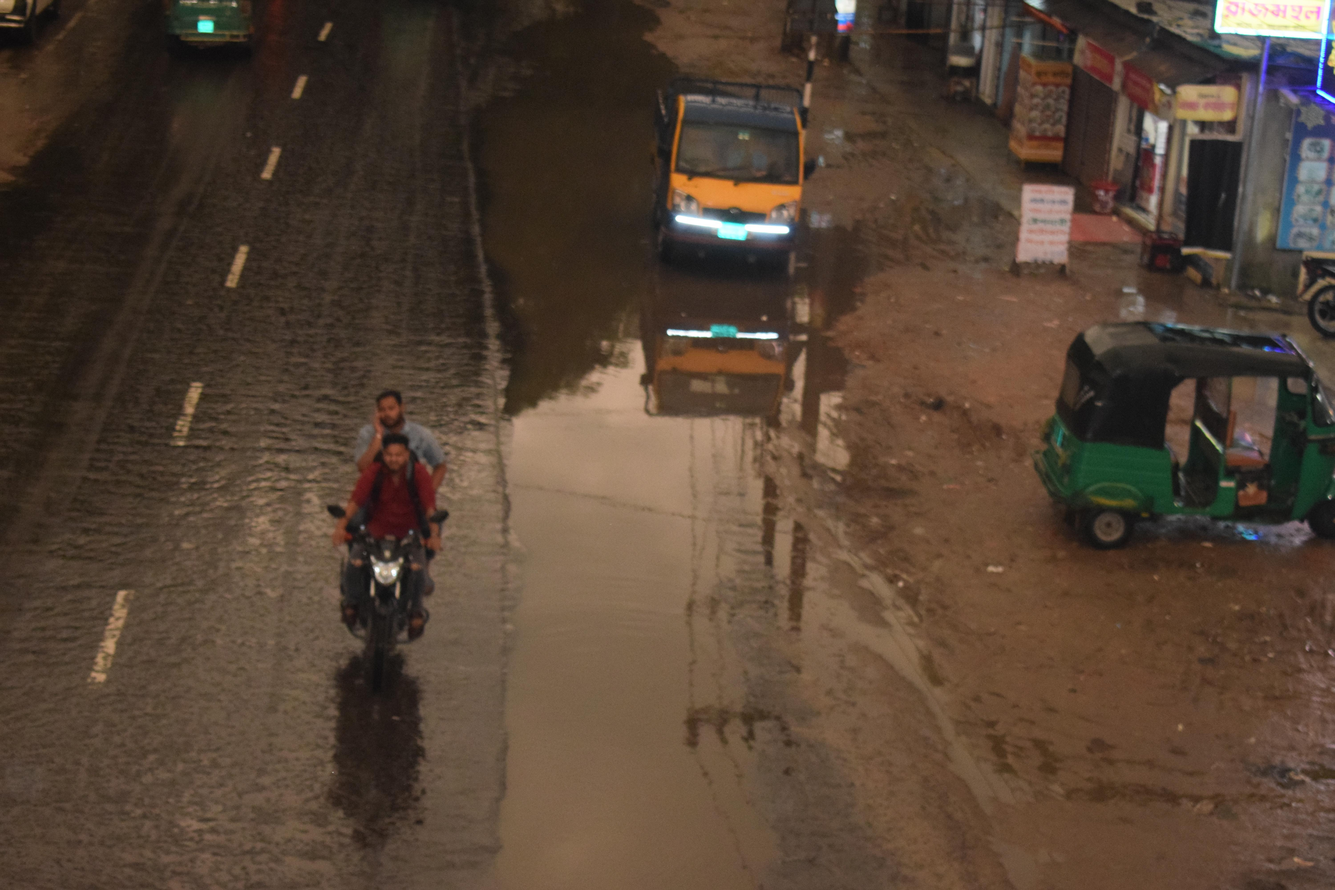Bike: (275, 355, 505, 734)
Truck: (623, 44, 854, 323)
